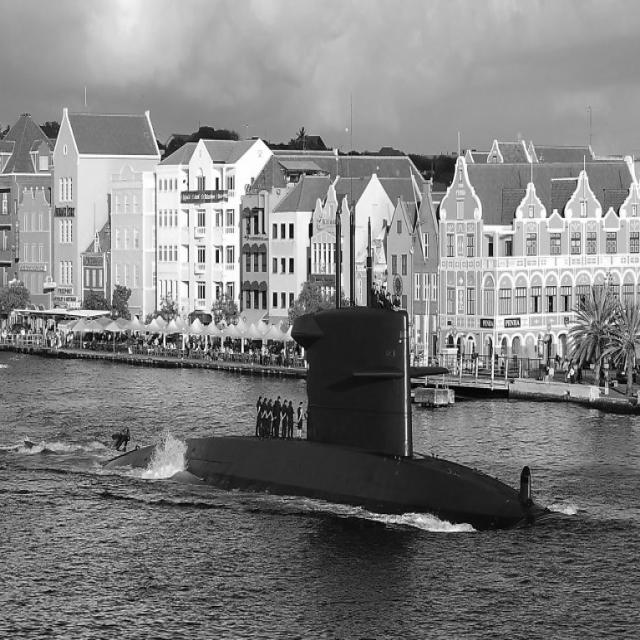submarine: (107, 306, 554, 534)
